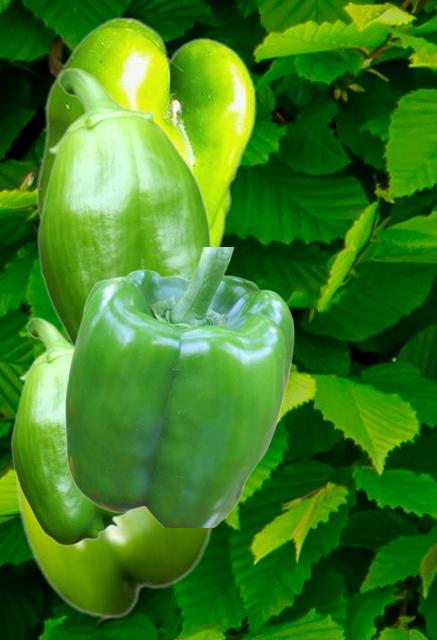bell_pepper: (64, 247, 293, 526), (35, 16, 255, 246), (36, 67, 212, 348), (16, 481, 215, 618), (10, 317, 129, 545)
